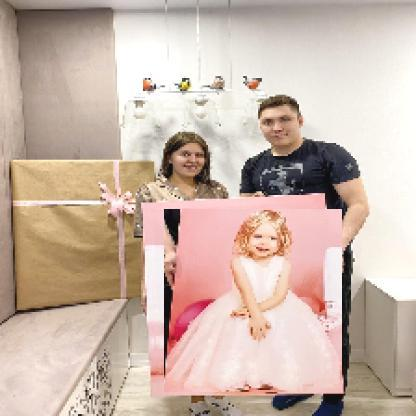child: (165, 210, 344, 394)
